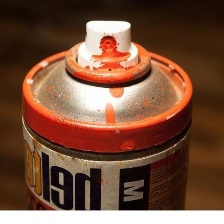aerosol_cans: (16, 13, 200, 210)
